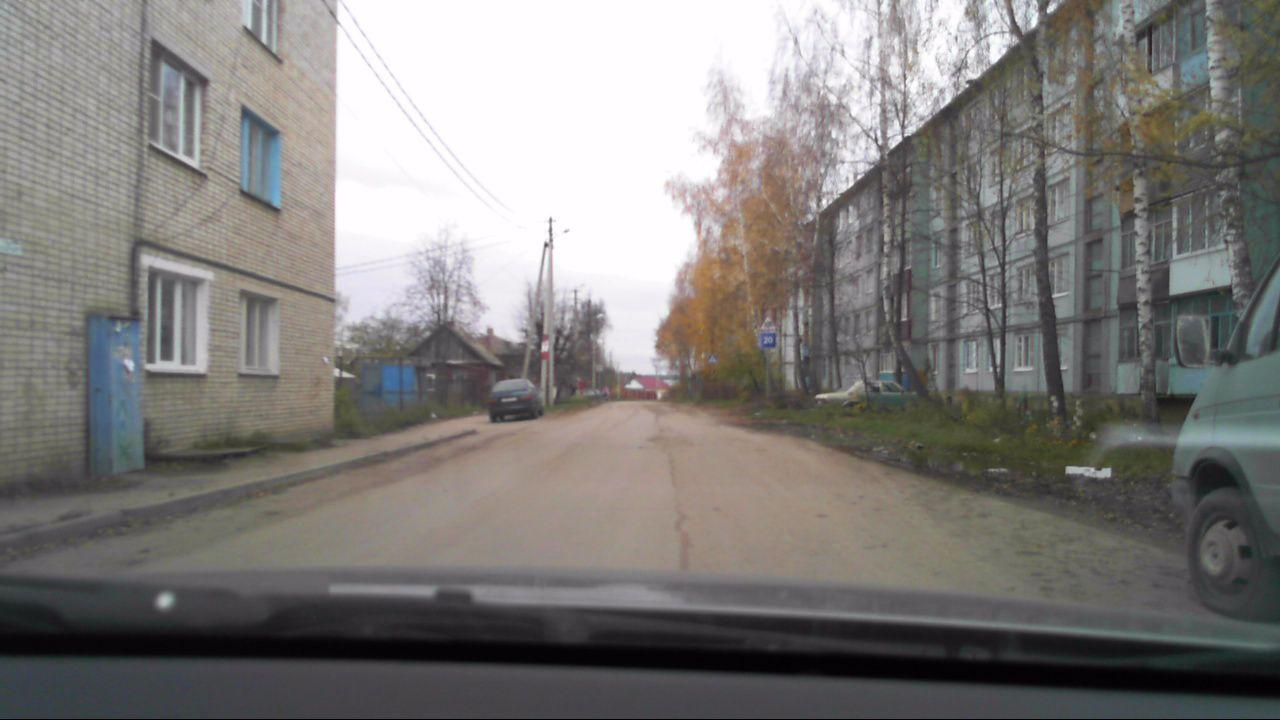1_23: (759, 311, 779, 330)
6_2: (760, 331, 776, 348)
